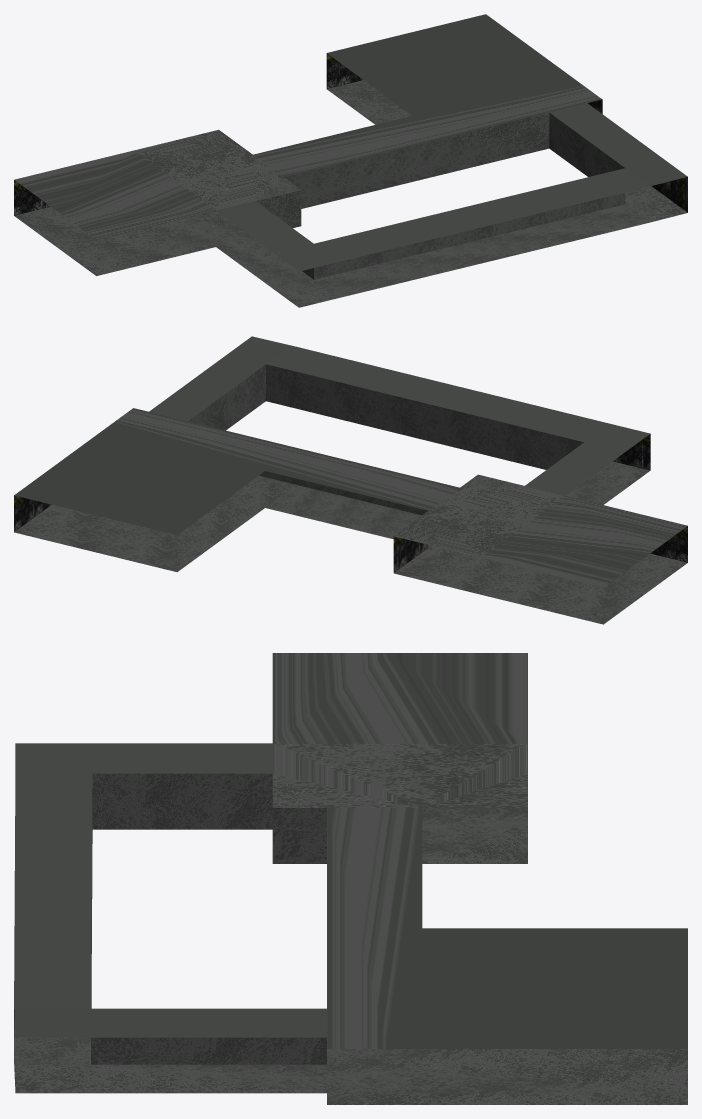
Rendered from testlevelforDoom.glb.
3 views of the same model, one above another, from view 1: azimuth 30°, elevation 25°; view 2: azimuth 150°, elevation 25°; view 3: azimuth 270°, elevation 25° (orthographic). The views are drawn at different scales.
Parts seen in each view (by area): view 1: Plane; view 2: Plane; view 3: Plane.
Part boxes in pixels (x1,y1,x2,y2): Plane: (14,14,687,307); Plane: (14,336,687,624); Plane: (14,653,687,1104).
Size of the model in its own units: 35.16 by 2.32 by 25.31.
2 materials, 2 textured.
